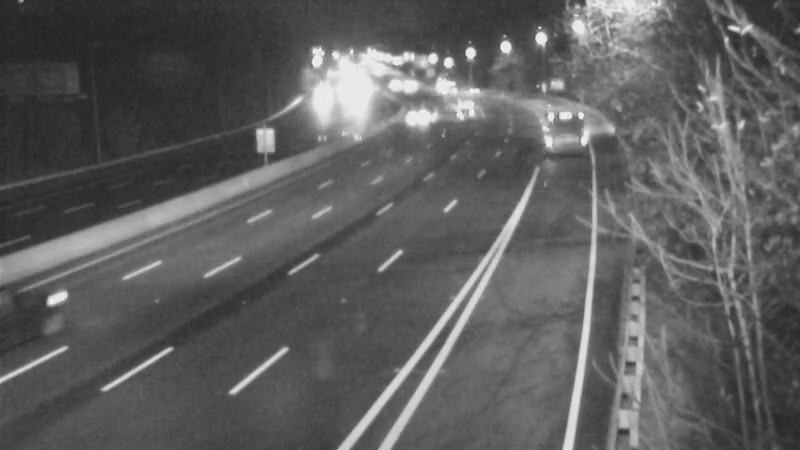vehicle: (413, 57, 463, 107), (367, 65, 417, 115), (381, 60, 431, 110), (445, 63, 495, 113), (438, 79, 488, 129), (441, 89, 491, 139), (536, 90, 586, 140), (294, 66, 344, 116)
